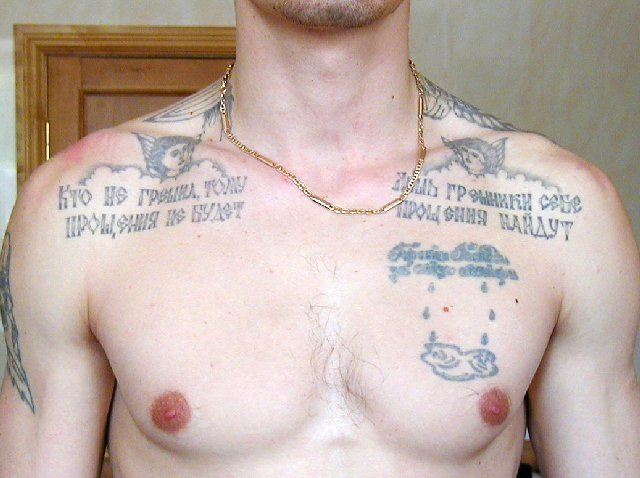tatu1_angel: (111, 128, 230, 180), (412, 134, 535, 173)
tatu3_bukva: (389, 172, 599, 243), (51, 180, 263, 243)
